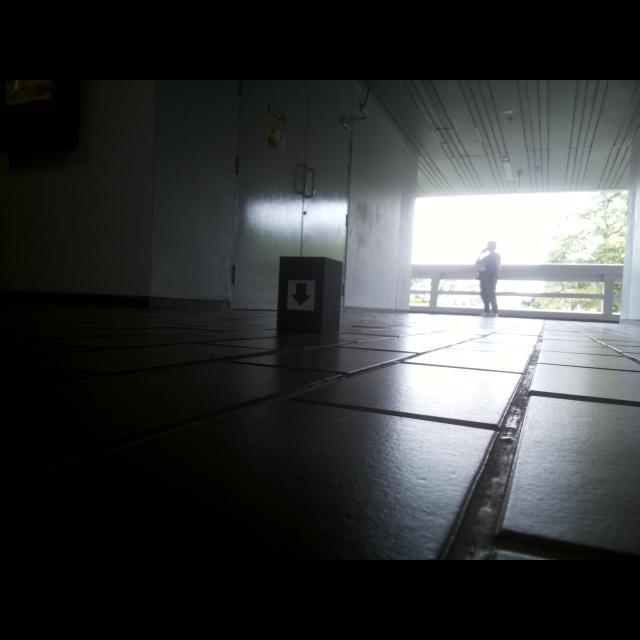DOWN: (290, 282, 312, 307)
